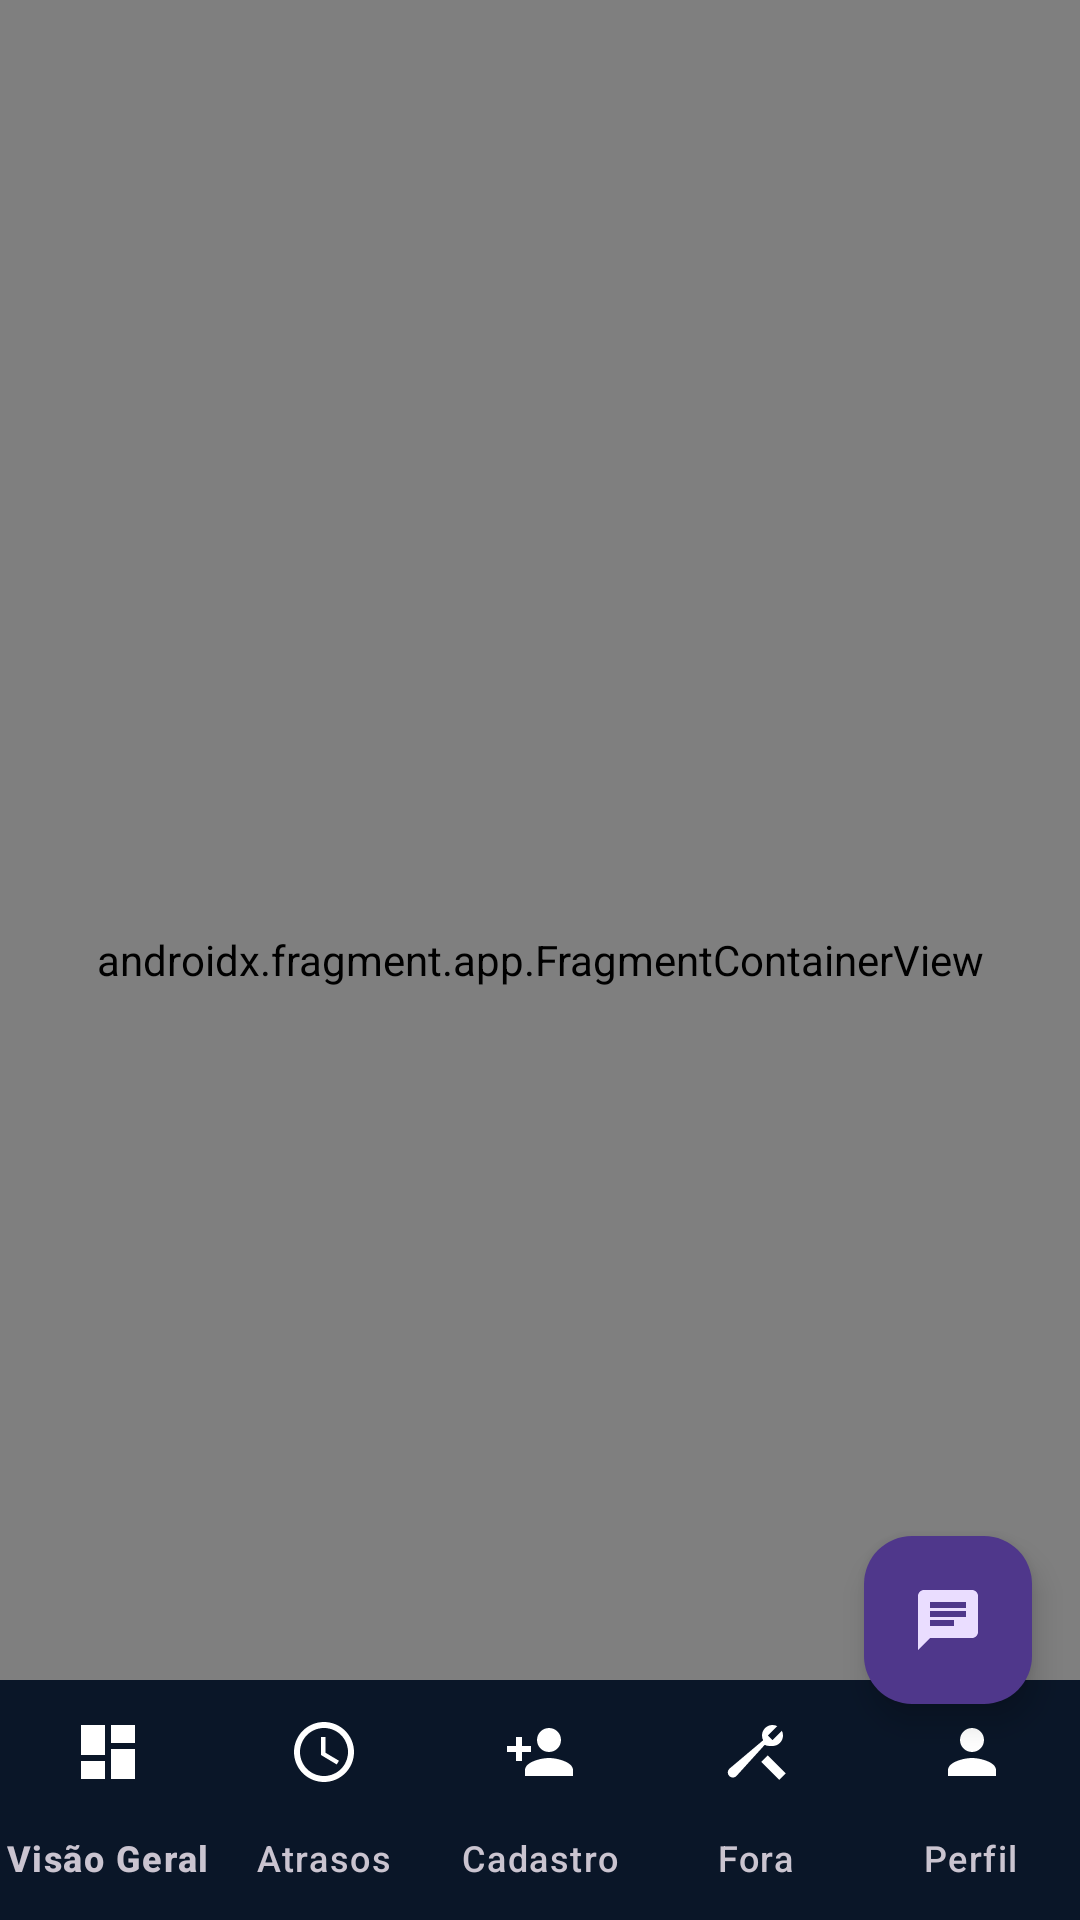

Screen size 1080 x 1920. Icon name, then its box in pixels as rect(x1, y1, x2, y2):
Chat: rect(864, 1536, 1032, 1704)
